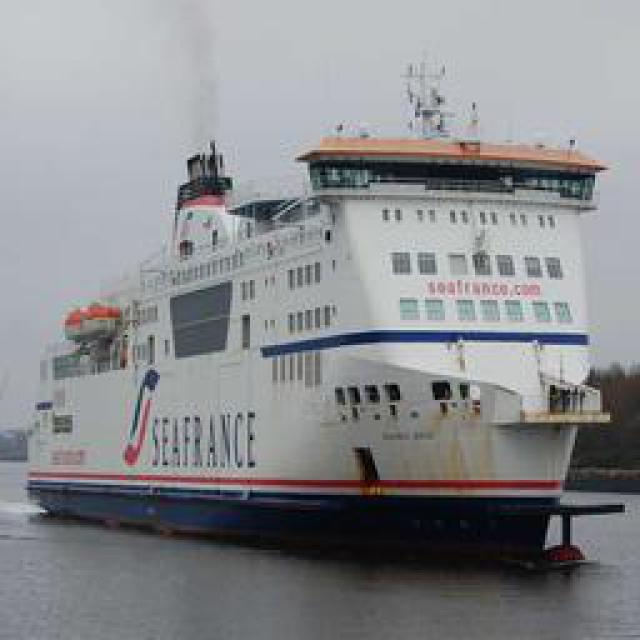Ship: (25, 116, 615, 554)
